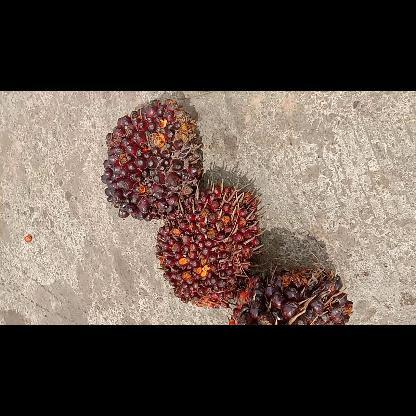Kurang masak: (155, 180, 261, 309), (101, 97, 201, 220)
TBS masak: (229, 272, 353, 324)
